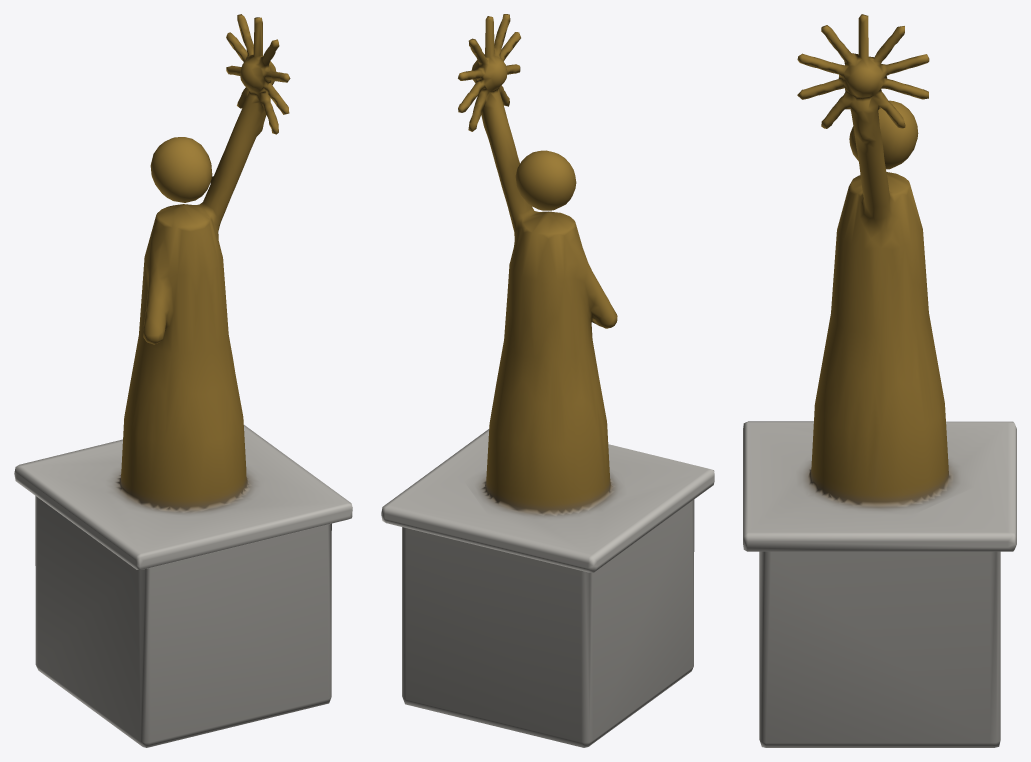
Rendered from lumiere-statue-deco.glb.
The picture shows the model from 3 angles, left to right: view 1: azimuth 30°, elevation 25°; view 2: azimuth 150°, elevation 25°; view 3: azimuth 270°, elevation 25°; orthographic projection. The views are drawn at different scales.
Parts seen in each view (by area): view 1: lumiere-statue-deco_LOD0; view 2: lumiere-statue-deco_LOD0; view 3: lumiere-statue-deco_LOD0.
Part boxes in pixels (x1,y1,x2,y2): lumiere-statue-deco_LOD0: (14, 14, 352, 747); lumiere-statue-deco_LOD0: (381, 14, 714, 747); lumiere-statue-deco_LOD0: (743, 14, 1016, 747).
Size of what is drawn, in the model's own units: 0.68 by 1.97 by 0.68.
